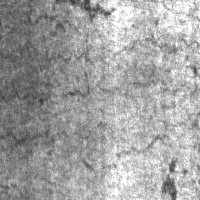crazing: (51, 38, 199, 103), (1, 7, 51, 145), (123, 84, 199, 156)
